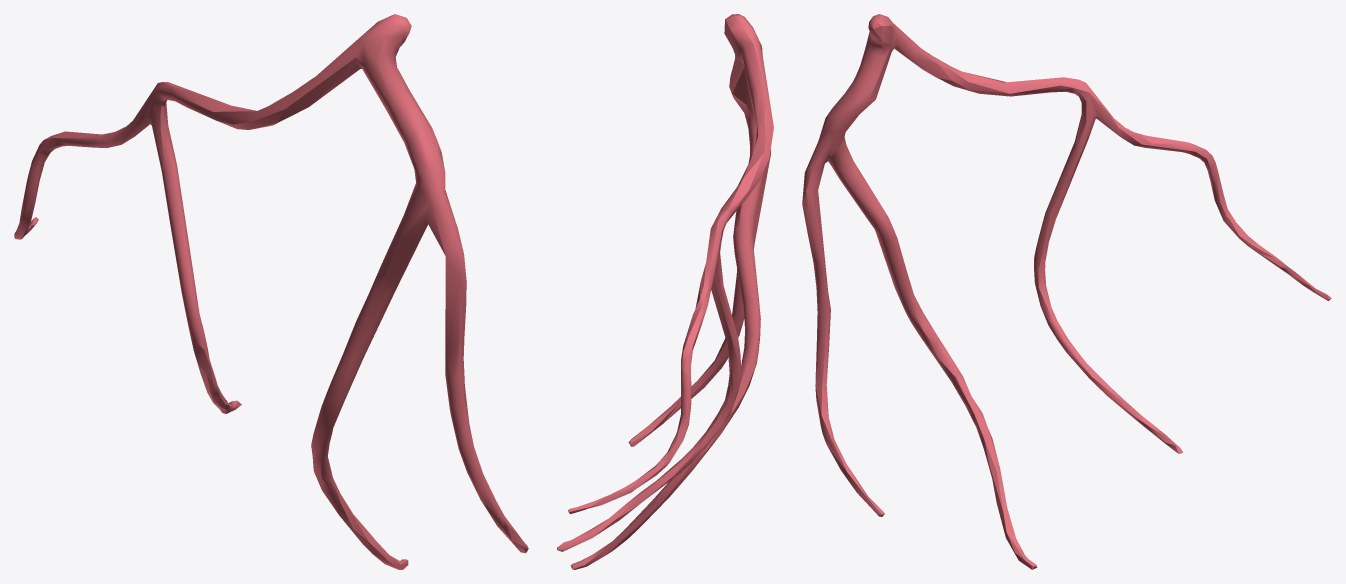
File: fma50383_fj1659.glb
3 views of the same model, side by side, from view 1: azimuth 30°, elevation 25°; view 2: azimuth 150°, elevation 25°; view 3: azimuth 270°, elevation 25° (orthographic). The views are drawn at different scales.
Visible parts, largest first — view 1: FMA50383_FJ1659; view 2: FMA50383_FJ1659; view 3: FMA50383_FJ1659.
Boxes of the visible parts, box(x1,y1,x2,y2) form: FMA50383_FJ1659: box(14, 14, 528, 569); FMA50383_FJ1659: box(557, 14, 773, 569); FMA50383_FJ1659: box(802, 14, 1331, 569).
Bounding box in the file's own units: 0.0208 × 0.0444 × 0.0415.
